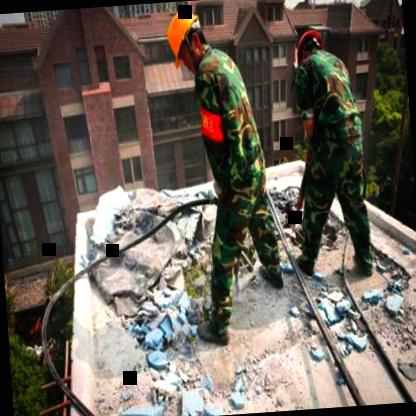helmet: (164, 2, 209, 72), (292, 24, 330, 66)
